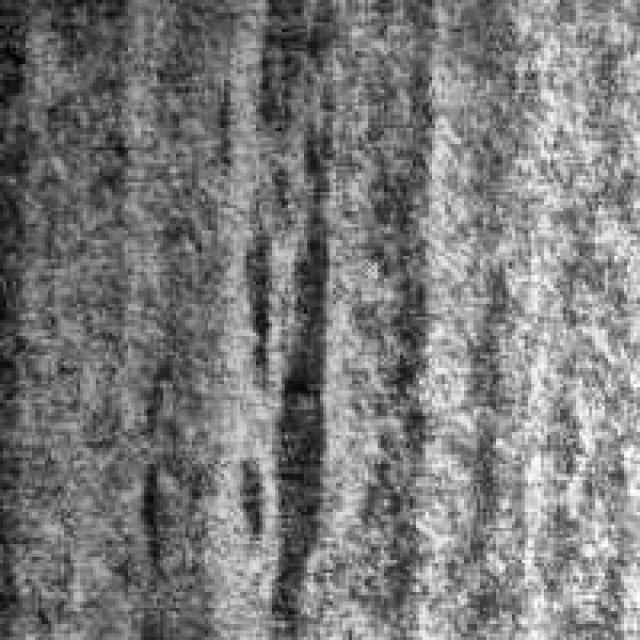Patches: (220, 80, 342, 627), (118, 444, 176, 580)
